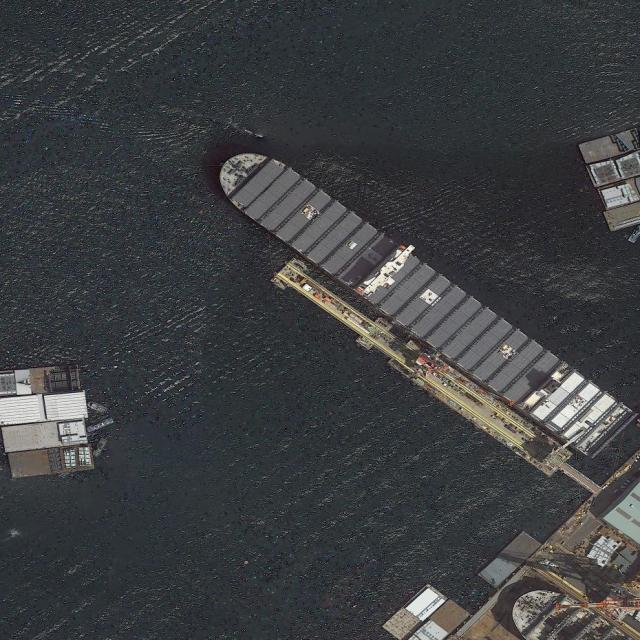Cargo: (202, 130, 638, 467)
Dock: (273, 251, 604, 502)
